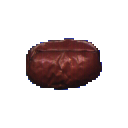ng: (22, 34, 107, 94)
